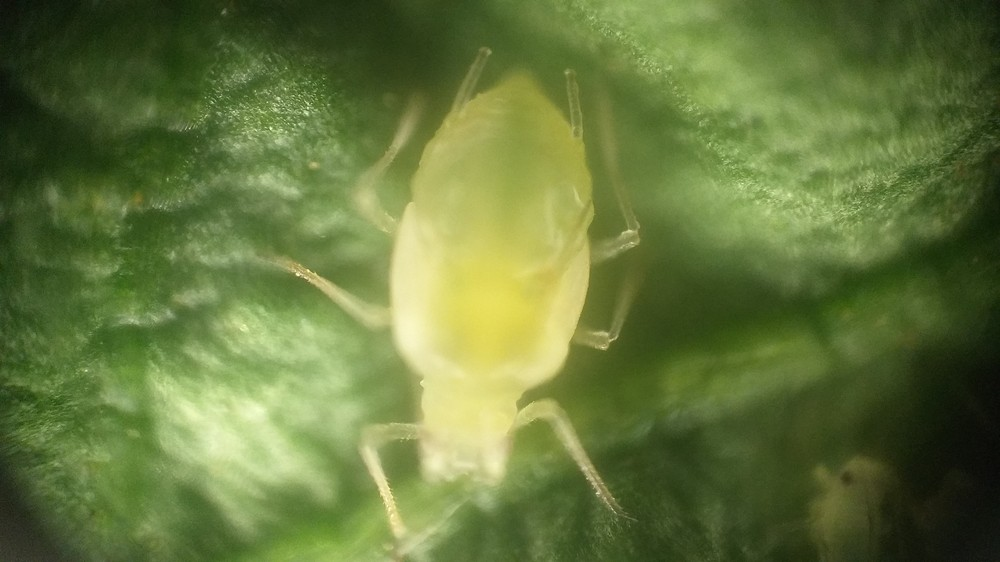Pulgon: (297, 33, 679, 550)
